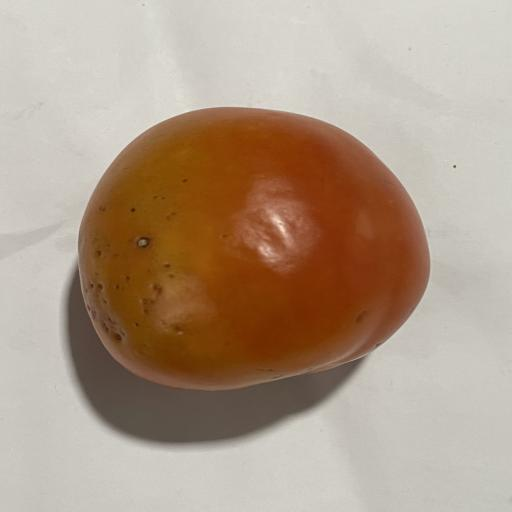unripe: (79, 108, 429, 390)
